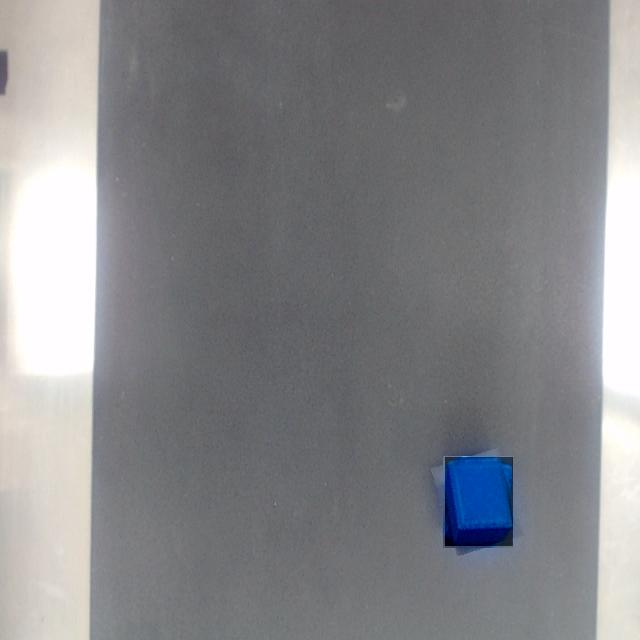Azul: (446, 458, 513, 546)
